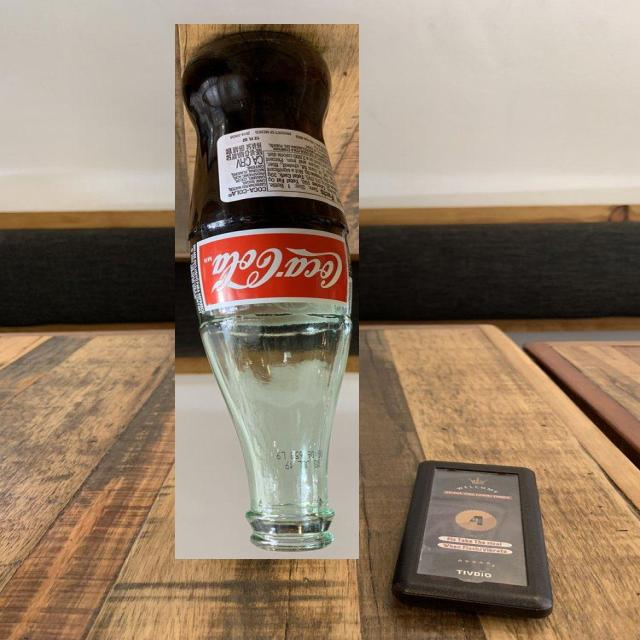coca-cola: (175, 24, 359, 559)
